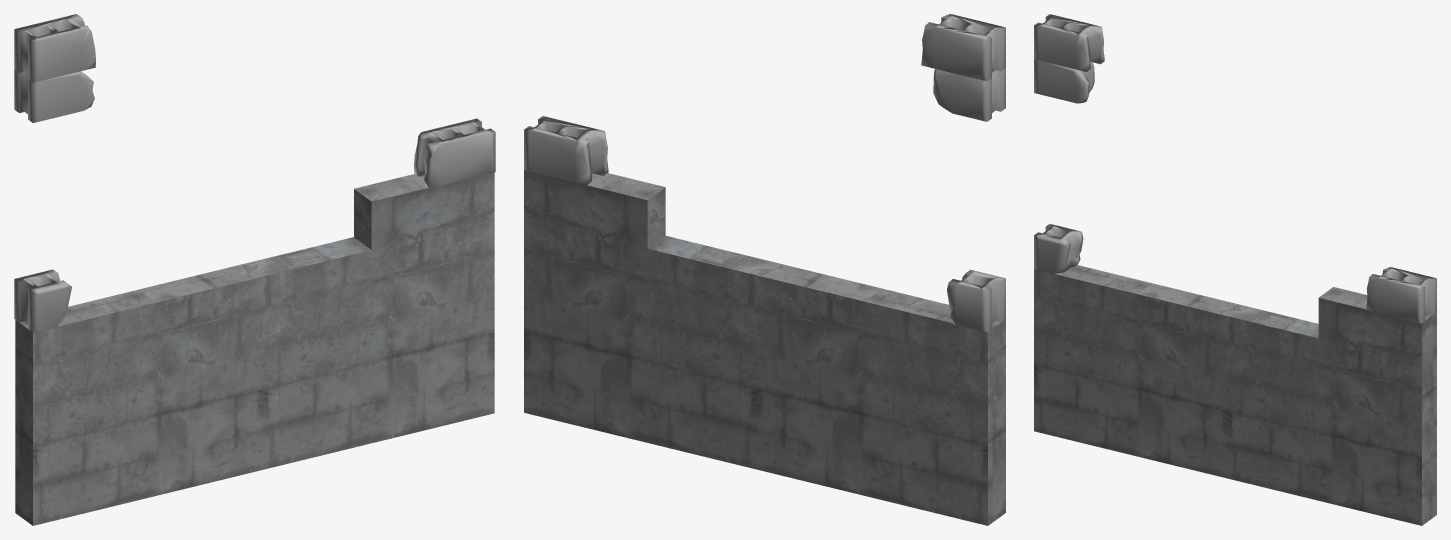
Rendered from wall_1window_01_Broken_03.fbx.
The picture shows the model from 3 angles, left to right: view 1: azimuth 30°, elevation 25°; view 2: azimuth 150°, elevation 25°; view 3: azimuth 330°, elevation 25°; orthographic projection. The views are drawn at different scales.
Visible parts, largest first — view 1: wall_1window_01_Broken_03; view 2: wall_1window_01_Broken_03; view 3: wall_1window_01_Broken_03.
Part boxes in pixels (x1,y1,x2,y2): wall_1window_01_Broken_03: (14,14,495,525); wall_1window_01_Broken_03: (524,14,1005,525); wall_1window_01_Broken_03: (1034,14,1436,525).
Bounding box in the file's own units: 300 × 300 × 21.86.
Materials: 2 (1 with a texture image).
